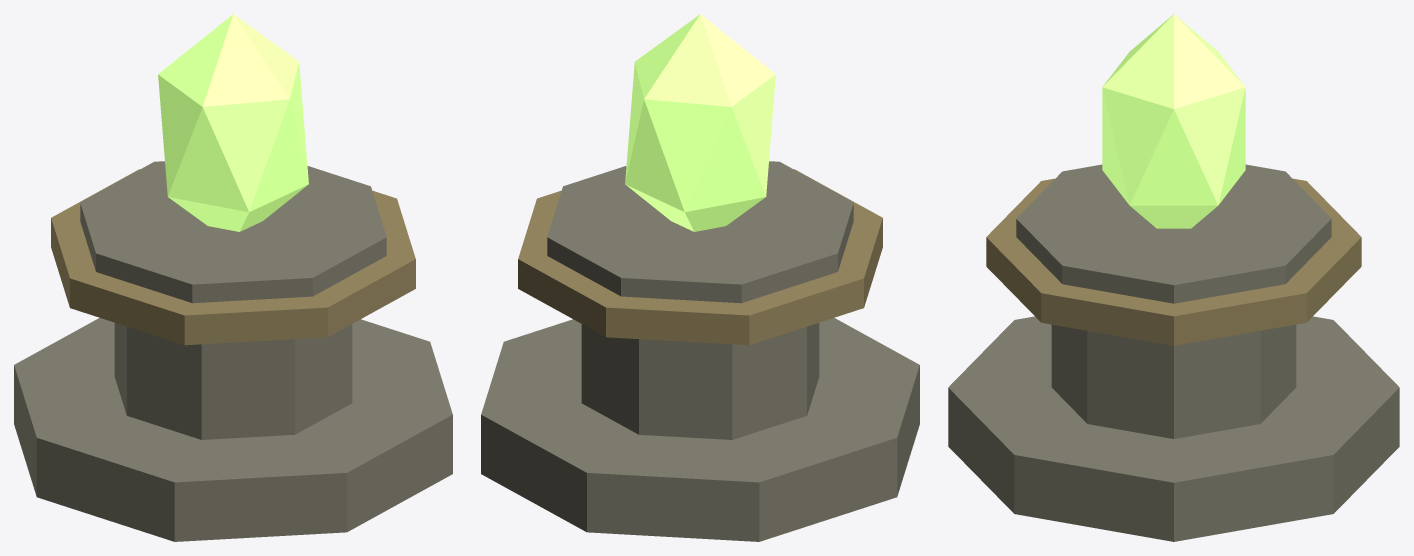
File: altar.glb
3 views of the same model, side by side, from view 1: azimuth 30°, elevation 25°; view 2: azimuth 150°, elevation 25°; view 3: azimuth 270°, elevation 25° (orthographic).
Visible parts, largest first — view 1: Plinth, Basin, Seed crystal, Pedestal, Rim; view 2: Plinth, Basin, Seed crystal, Pedestal, Rim; view 3: Plinth, Basin, Seed crystal, Pedestal, Rim.
Boxes of the visible parts, bbox=[...] form: Plinth: bbox=[14, 318, 452, 541]; Basin: bbox=[80, 161, 386, 303]; Seed crystal: bbox=[158, 14, 308, 231]; Pedestal: bbox=[114, 323, 352, 439]; Rim: bbox=[51, 169, 415, 345]; Plinth: bbox=[481, 318, 919, 541]; Basin: bbox=[547, 161, 853, 303]; Seed crystal: bbox=[625, 14, 775, 231]; Pedestal: bbox=[581, 323, 819, 439]; Rim: bbox=[518, 169, 882, 345]; Plinth: bbox=[948, 316, 1399, 541]; Basin: bbox=[1016, 164, 1331, 303]; Seed crystal: bbox=[1102, 14, 1245, 228]; Pedestal: bbox=[1051, 324, 1296, 438]; Rim: bbox=[986, 178, 1361, 345].
Bounding box in the file's own units: 1.66 × 1.75 × 1.66.
